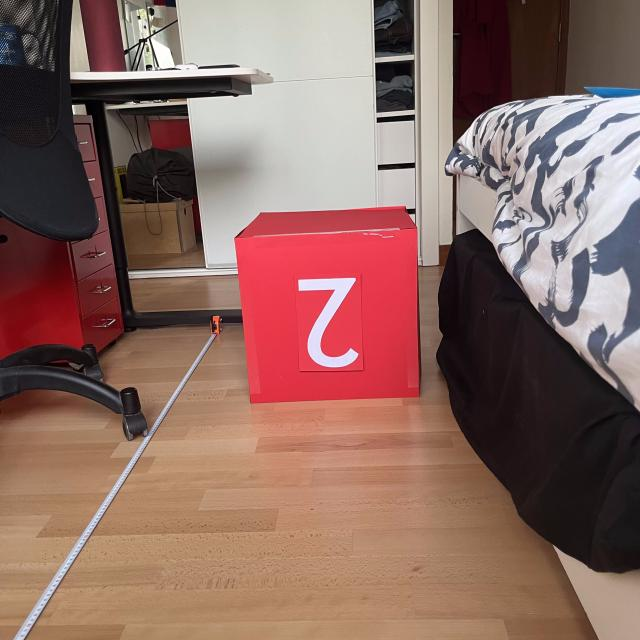box: (229, 202, 425, 405)
